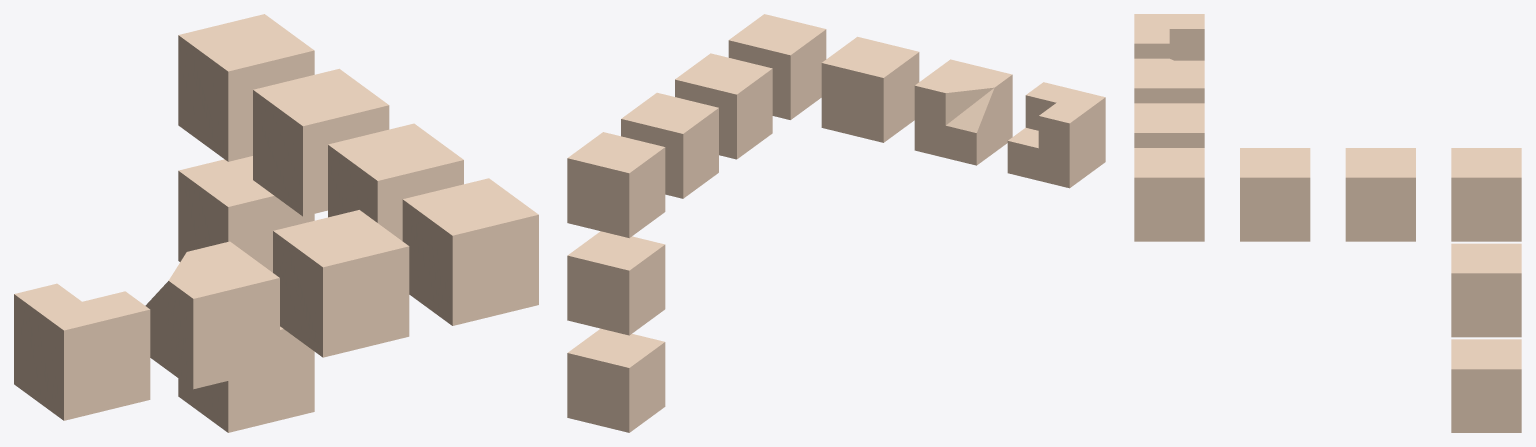
Rendered from Abstract_Castle_PenroseStairs3D_ParProjDiag_01.fbx.
3 renders of one model, left to right at view 1: azimuth 30°, elevation 25°; view 2: azimuth 150°, elevation 25°; view 3: azimuth 270°, elevation 25°, orthographic. The views are drawn at different scales.
Parts seen in each view (by area): view 1: Model; view 2: Model; view 3: Model.
Boxes of the visible parts, left/top/right/bottom form: Model: left=14, top=14, right=538, bottom=432; Model: left=567, top=14, right=1105, bottom=432; Model: left=1134, top=14, right=1521, bottom=432.
Bounding box in the file's own units: 5500 × 4000 × 5500.
